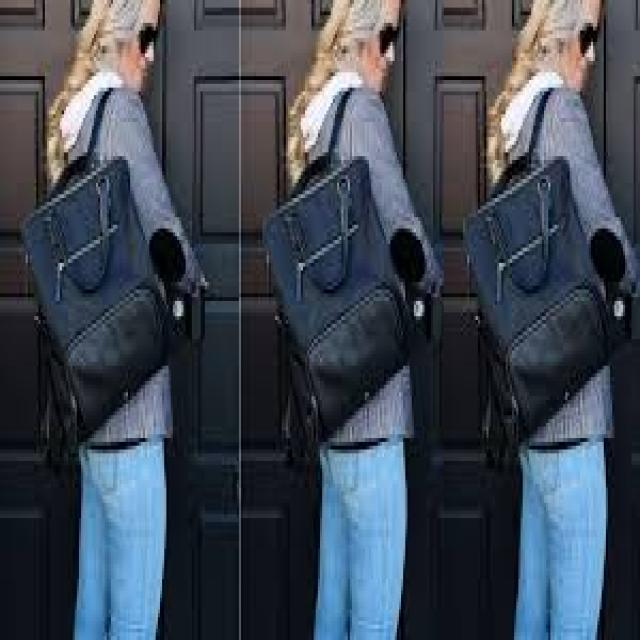backpack: (17, 153, 180, 460), (455, 147, 624, 441), (264, 147, 423, 448)
